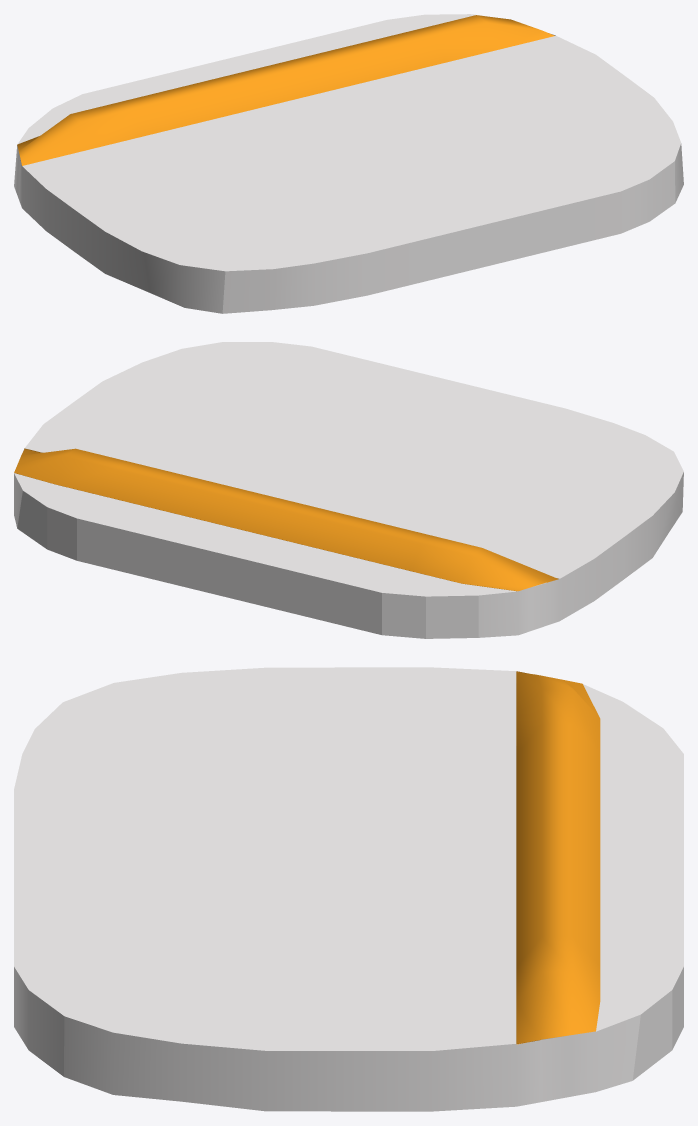
Rendered from key card model oreng.fbx.
The picture shows the model from 3 angles, top to bottom: view 1: azimuth 30°, elevation 25°; view 2: azimuth 150°, elevation 25°; view 3: azimuth 270°, elevation 25°; orthographic projection. The views are drawn at different scales.
Visible parts, largest first — view 1: pPlane1; view 2: pPlane1; view 3: pPlane1.
Part boxes in pixels (x1,y1,x2,y2): pPlane1: (14,14,683,313); pPlane1: (14,342,683,638); pPlane1: (14,667,683,1111).
Size of the model in its own units: 6.18 by 0.6778 by 4.56.
1 material, 1 textured.
